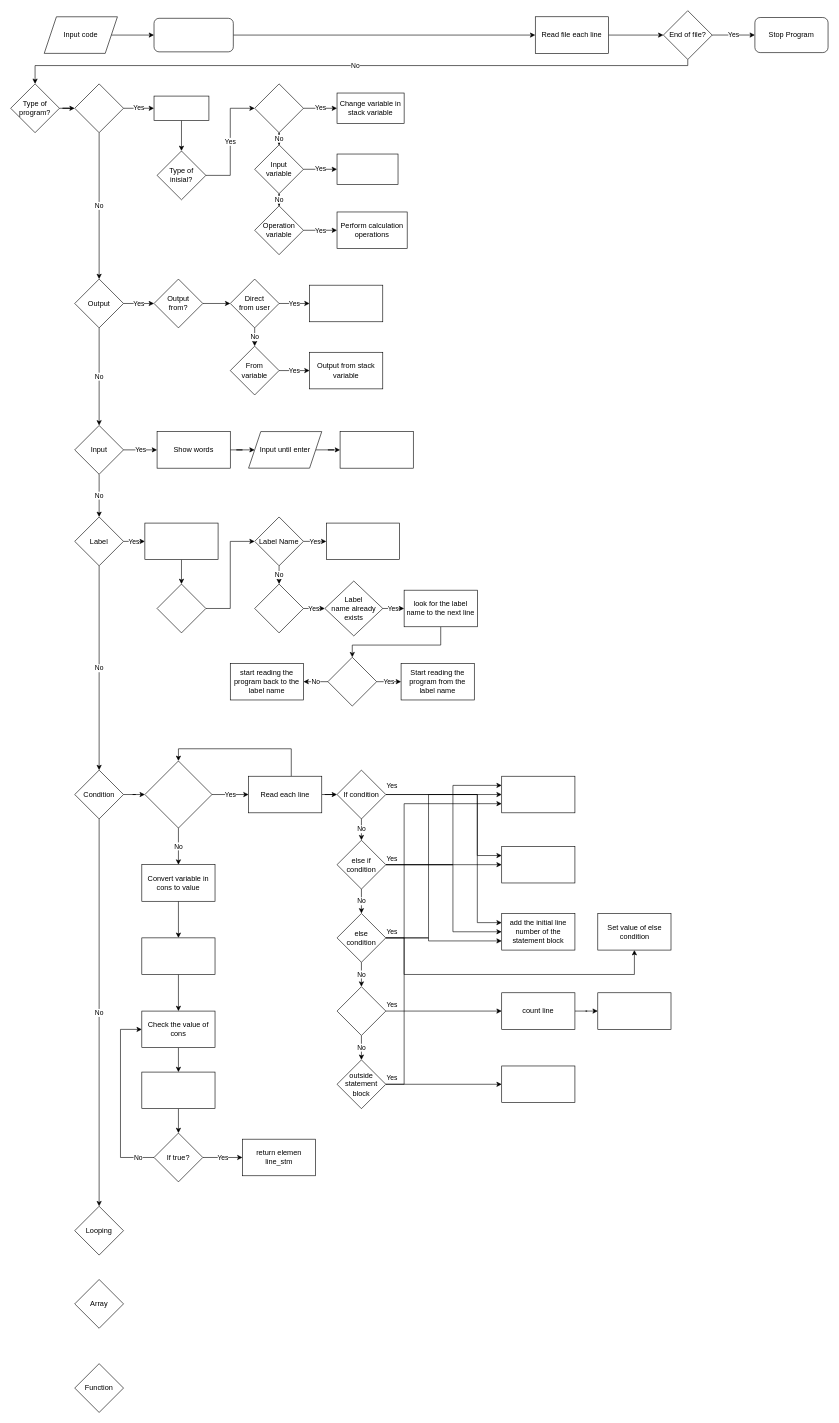
Image size: 839x1423. Some labels were removed from this diagram. The shapes that lost their labels are listed below. From the top down, each one's centre as x and y in pixels, then its label:
At (193,35): "Start Program".
At (99,108): "Inisialitation".
At (181,107): "Type of variable".
At (278,108): "Refill variable".
At (367,169): "Insert variable in stack variable".
At (346,303): "Output from teks between double quotes".
At (376,449): "Set inisialitation".
At (181,541): "Detects one of the label components".
At (363,541): "Set label name in stack label".
At (181,608): "Which one?".
At (278,608): "goto statement".
At (352,681): "Found?".
At (178,794): "if it is still included in the conditions section".
At (538,794): "add the final line number of the previous statement block".
At (538,864): "Insert condition into stack cons".
At (178,955): "add the line number after the statement block to the line_stm stack".
At (361,1010): "statement block".
At (634,1010): "Continue readline".
At (178,1090): "do logical operations".
At (538,1084): "break looping".
